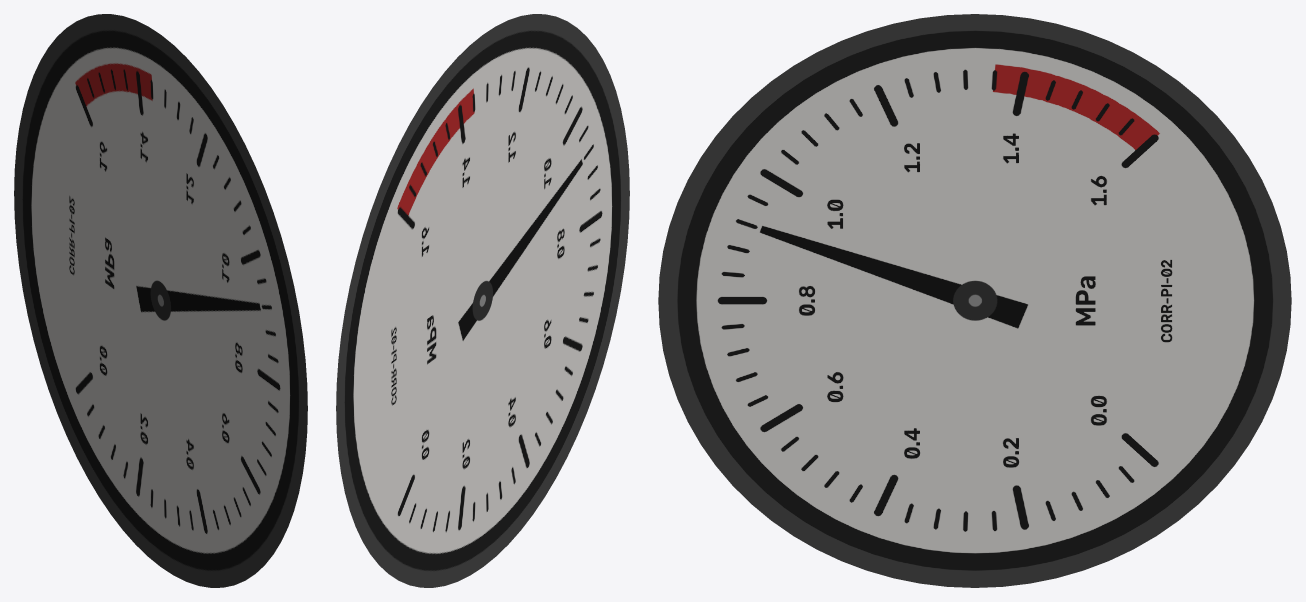
The model's file is dial.obj.
The picture shows the model from 3 angles, left to right: view 1: azimuth 30°, elevation 25°; view 2: azimuth 150°, elevation 25°; view 3: azimuth 270°, elevation 25°; orthographic projection. The views are drawn at different scales.
Visible parts, largest first — view 1: gauge_g08_dial; view 2: gauge_g08_dial; view 3: gauge_g08_dial.
Part boxes in pixels (left/top/right/bottom): gauge_g08_dial: left=14, top=14, right=307, bottom=587; gauge_g08_dial: left=336, top=14, right=629, bottom=587; gauge_g08_dial: left=658, top=14, right=1291, bottom=587.
Bounding box in the file's own units: 0 × 0.3 × 0.3.
1 material, 1 textured.
